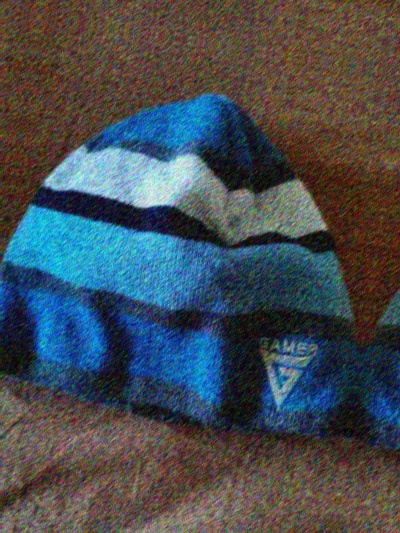Hat: (0, 55, 399, 458), (345, 112, 400, 516), (0, 0, 32, 401), (44, 0, 400, 36)
